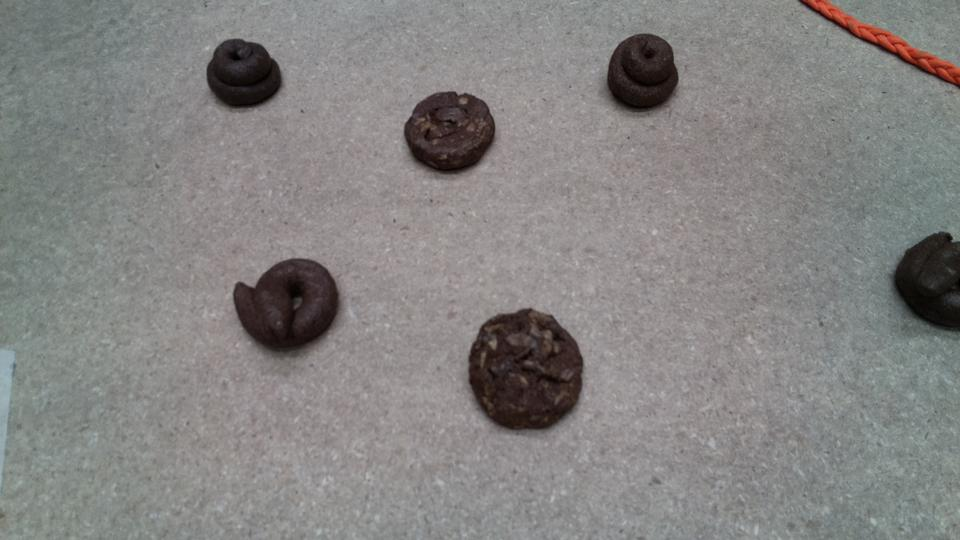poop: (472, 309, 583, 427), (236, 258, 338, 347), (407, 92, 496, 173), (895, 232, 960, 327), (610, 33, 678, 110), (208, 40, 283, 108)
rope: (882, 34, 928, 64), (838, 15, 883, 39), (922, 58, 959, 83), (805, 1, 842, 20)
